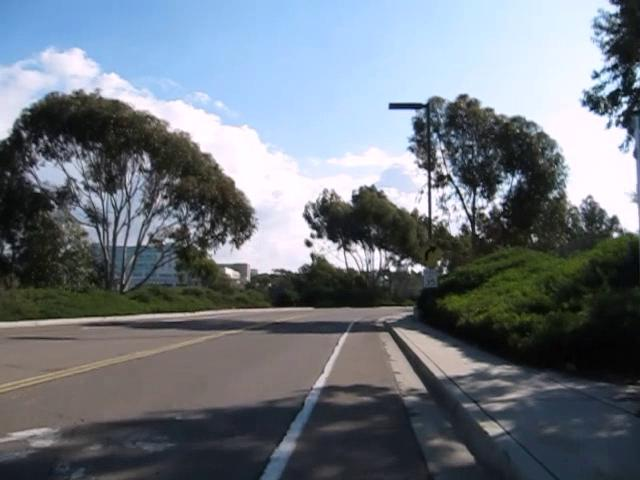speedLimit35: (423, 268, 438, 288)
